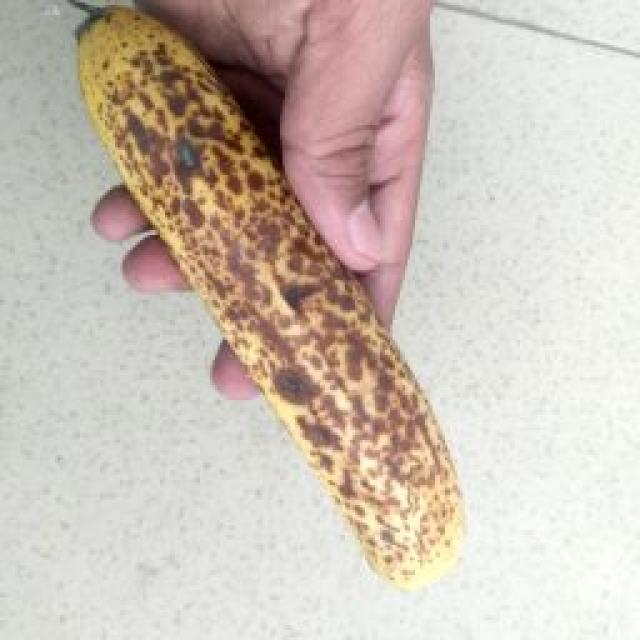banana: (89, 133, 604, 597)
